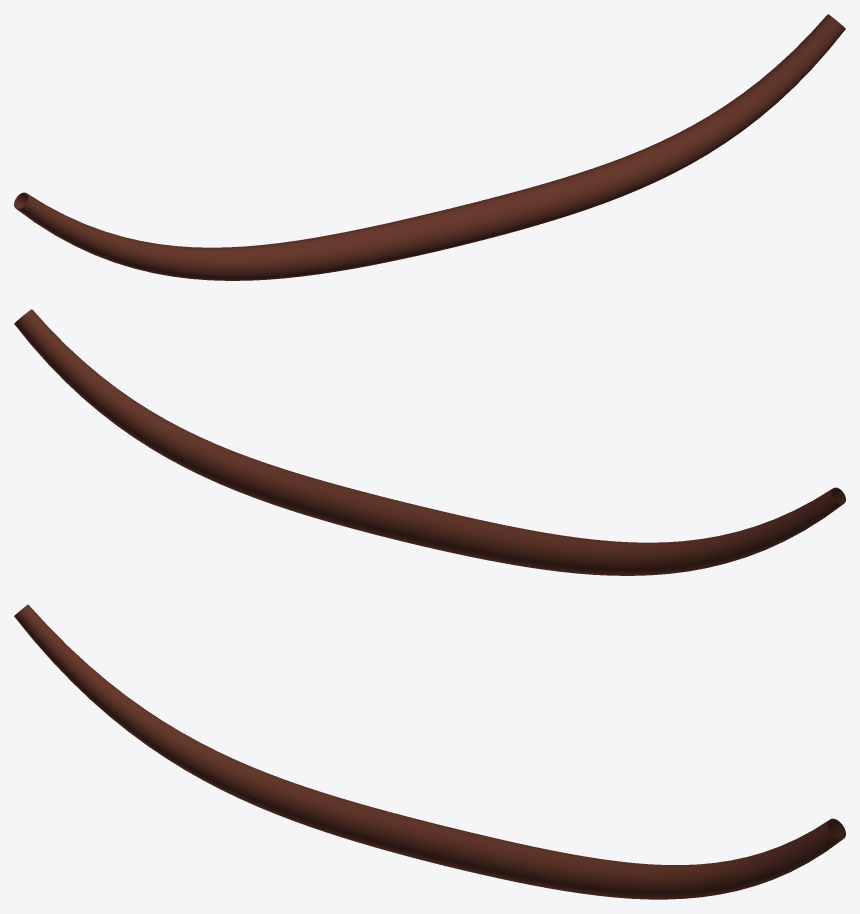
File: mouse.fbx
3 renders of one model, top to bottom at view 1: azimuth 30°, elevation 25°; view 2: azimuth 150°, elevation 25°; view 3: azimuth 330°, elevation 25°, orthographic.
Visible parts, largest first — view 1: NurbsPath; view 2: NurbsPath; view 3: NurbsPath.
Part boxes in pixels (x1,y1,x2,y2): NurbsPath: (14, 14, 845, 280); NurbsPath: (14, 309, 845, 575); NurbsPath: (14, 604, 845, 899).
Bounding box in the file's own units: 440 × 79.31 × 17.17.
